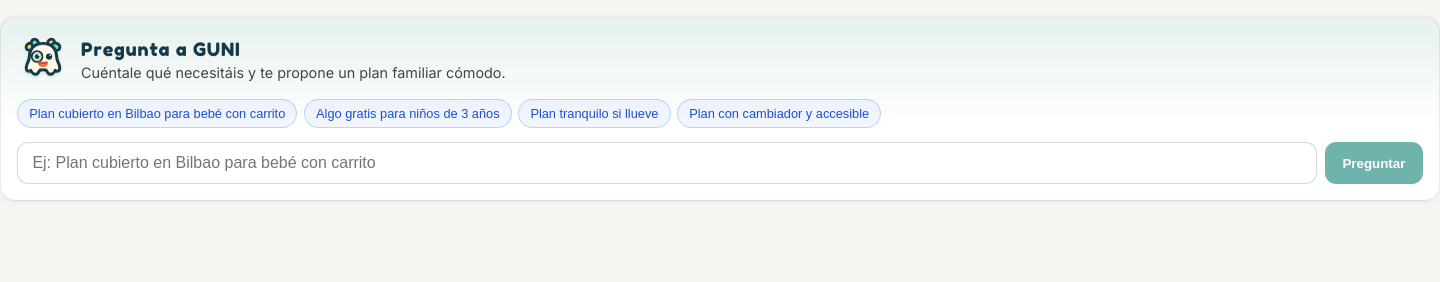
Scenario: GuniPanel › fallback: muestra texto amable de orientación (no la palabra cruda)
Type "algo gratis" into the field named "Tu necesidad familiar" at {"x": 667, "y": 163}, box [17, 142, 1317, 184]
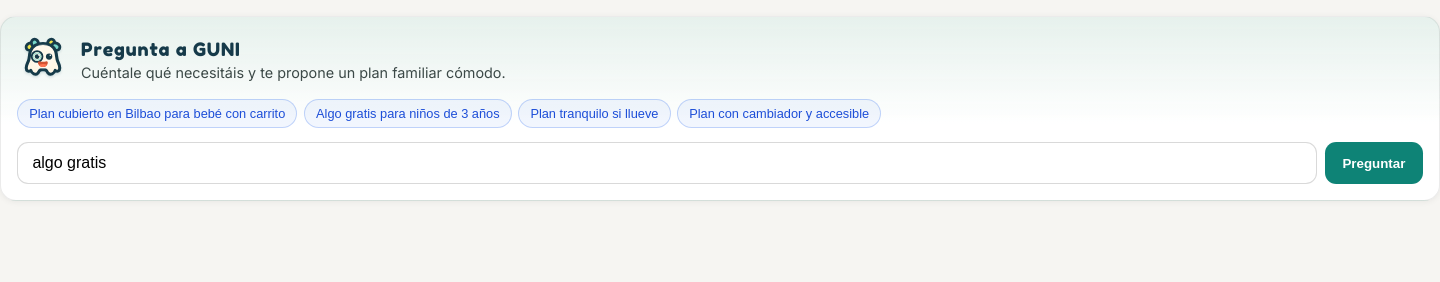
Click the button "Preguntar" at {"x": 1374, "y": 163}, box [1325, 142, 1423, 184]
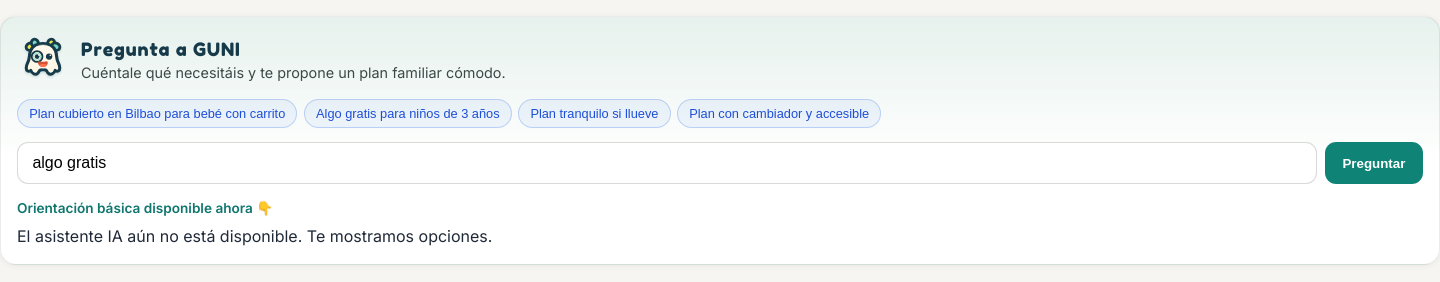
Result: the text "Orientación básica disponible ahora 👇" is shown at [17, 200, 273, 216]
Result: the text "El asistente IA aún no está disponible" is shown at [17, 226, 492, 246]
